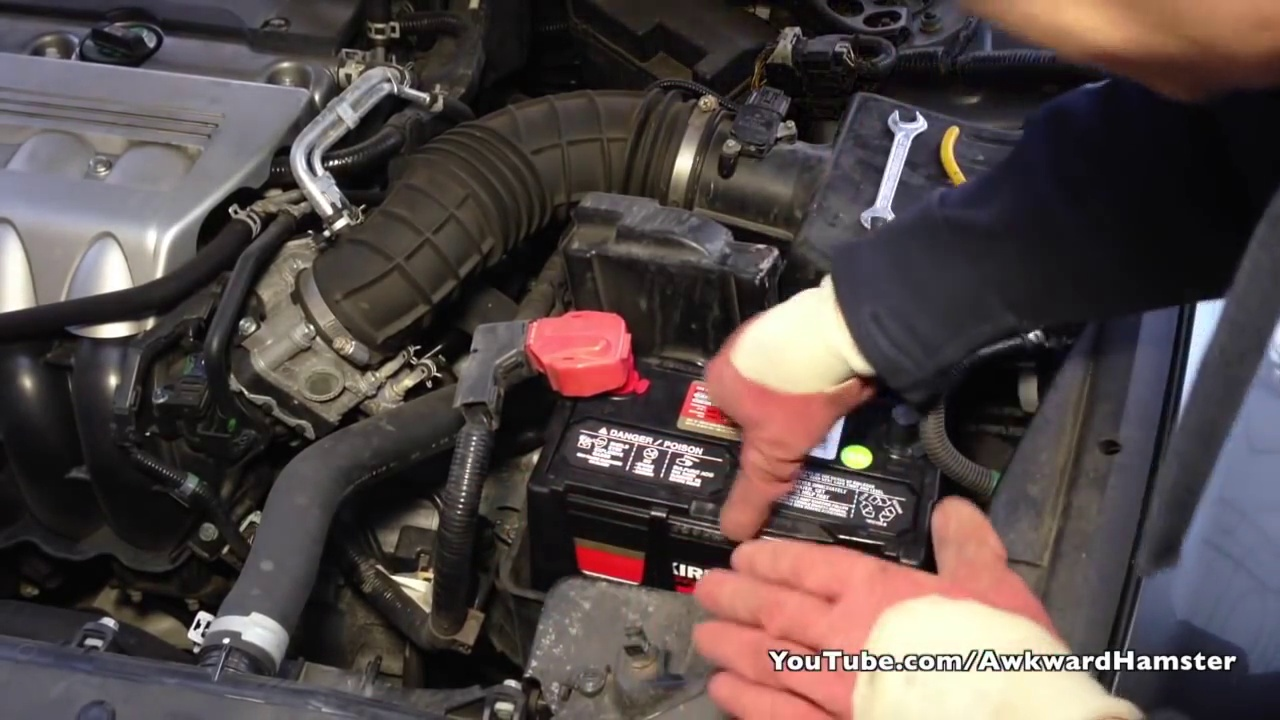battery: (531, 329, 943, 571)
pos_connected: (458, 314, 660, 419)
